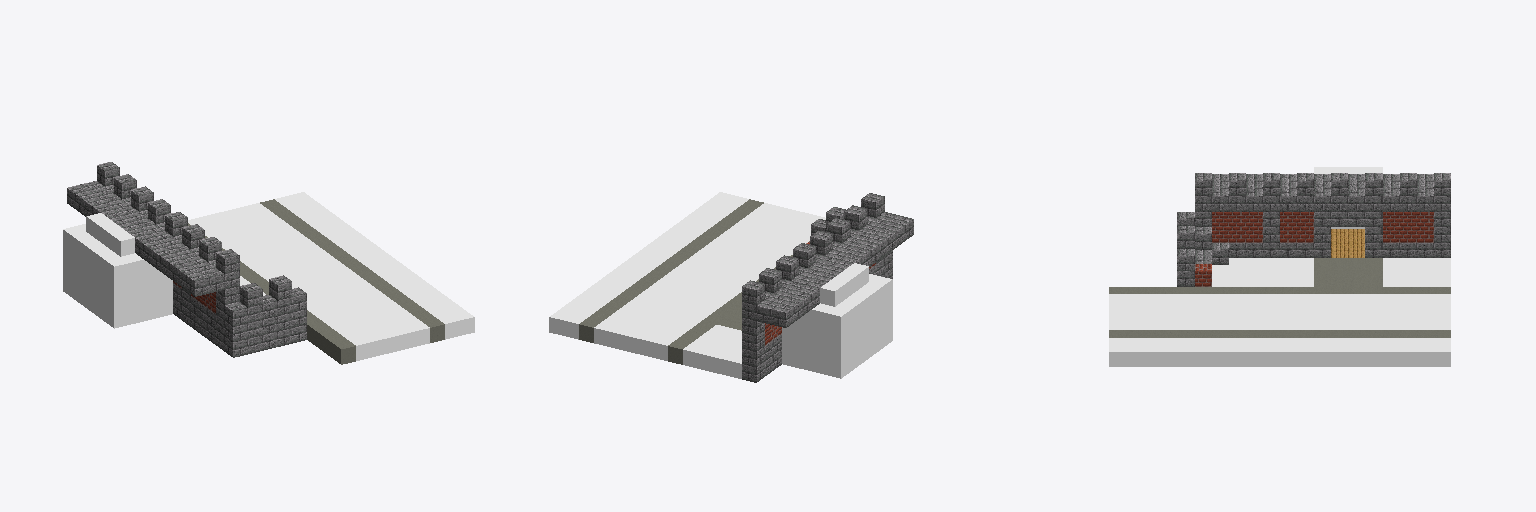
3 renders of one model, left to right at view 1: azimuth 30°, elevation 25°; view 2: azimuth 150°, elevation 25°; view 3: azimuth 270°, elevation 25°, orthographic.
Visible parts, largest first — view 1: Backgrounds_Menu__-237_4_-117_to_-218_255_-95; view 2: Backgrounds_Menu__-237_4_-117_to_-218_255_-95; view 3: Backgrounds_Menu__-237_4_-117_to_-218_255_-95.
Part boxes in pixels (x1,y1,x2,y2): Backgrounds_Menu__-237_4_-117_to_-218_255_-95: (63, 162, 474, 364); Backgrounds_Menu__-237_4_-117_to_-218_255_-95: (549, 192, 913, 382); Backgrounds_Menu__-237_4_-117_to_-218_255_-95: (1109, 167, 1450, 366).
Bounding box in the file's own units: 18 × 6 × 20.
Materials: 9 (5 with a texture image).